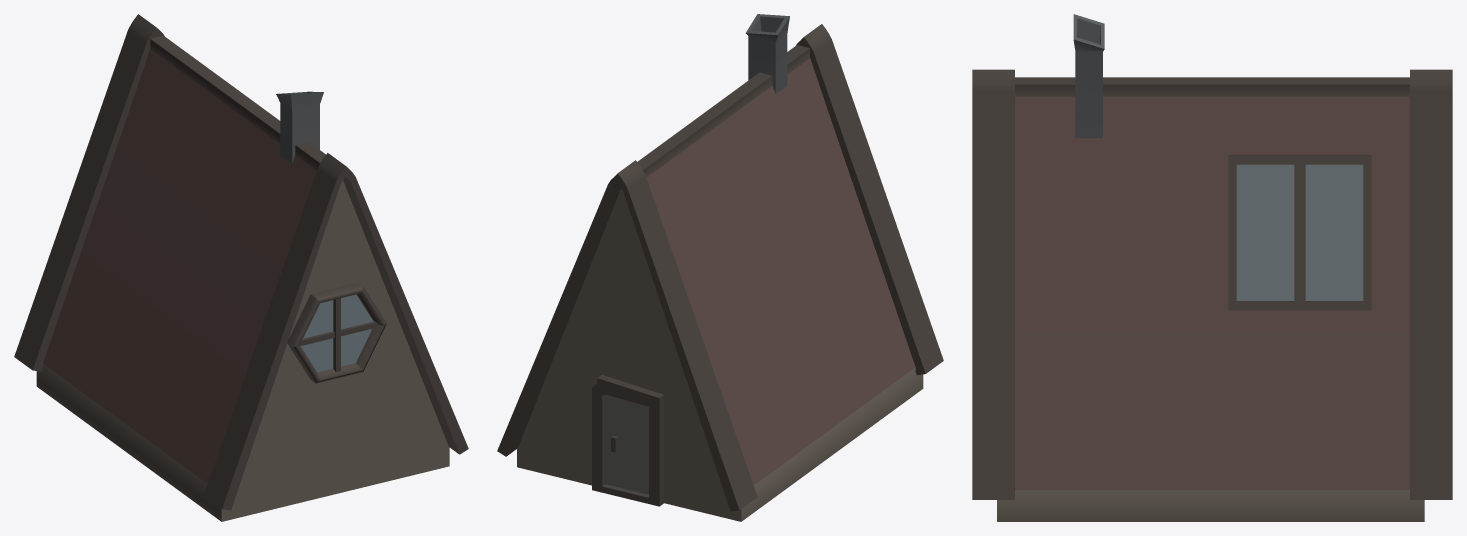
Rendered from Assembled_Hut_Single_Chimney.fbx.
The picture shows the model from 3 angles, left to right: view 1: azimuth 30°, elevation 25°; view 2: azimuth 150°, elevation 25°; view 3: azimuth 270°, elevation 25°; orthographic projection. The views are drawn at different scales.
Visible parts, largest first — view 1: Triangle_Single_Chimney; view 2: Triangle_Single_Chimney; view 3: Triangle_Single_Chimney.
Boxes of the visible parts, x1,y1,x2,y2 form: Triangle_Single_Chimney: (14,14,468,521); Triangle_Single_Chimney: (497,14,943,521); Triangle_Single_Chimney: (972,14,1452,521).
Bounding box in the file's own units: 3.24 × 4.74 × 4.72.
